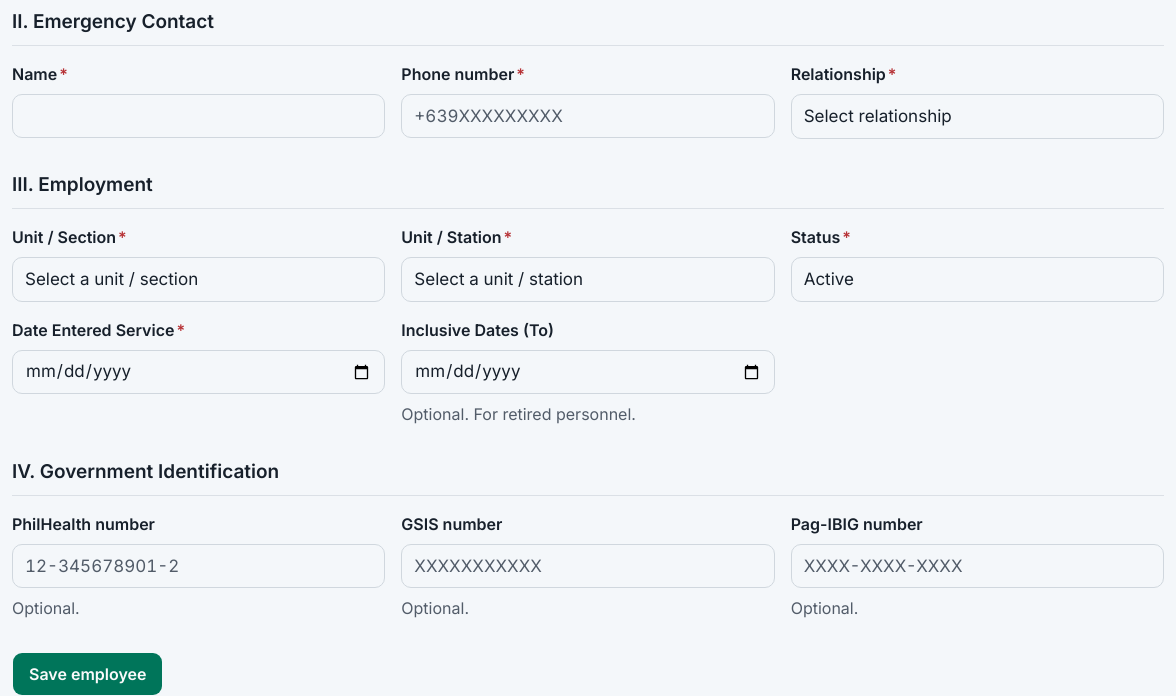
Test case: EmployeeForm › shows Badge number validation next to the field
The width and height of the screenshot is (1176, 696).
(page scrolled)
Step 1. Click the button "Save employee" → (88, 674), box [12,652,164,695]
(page scrolled)
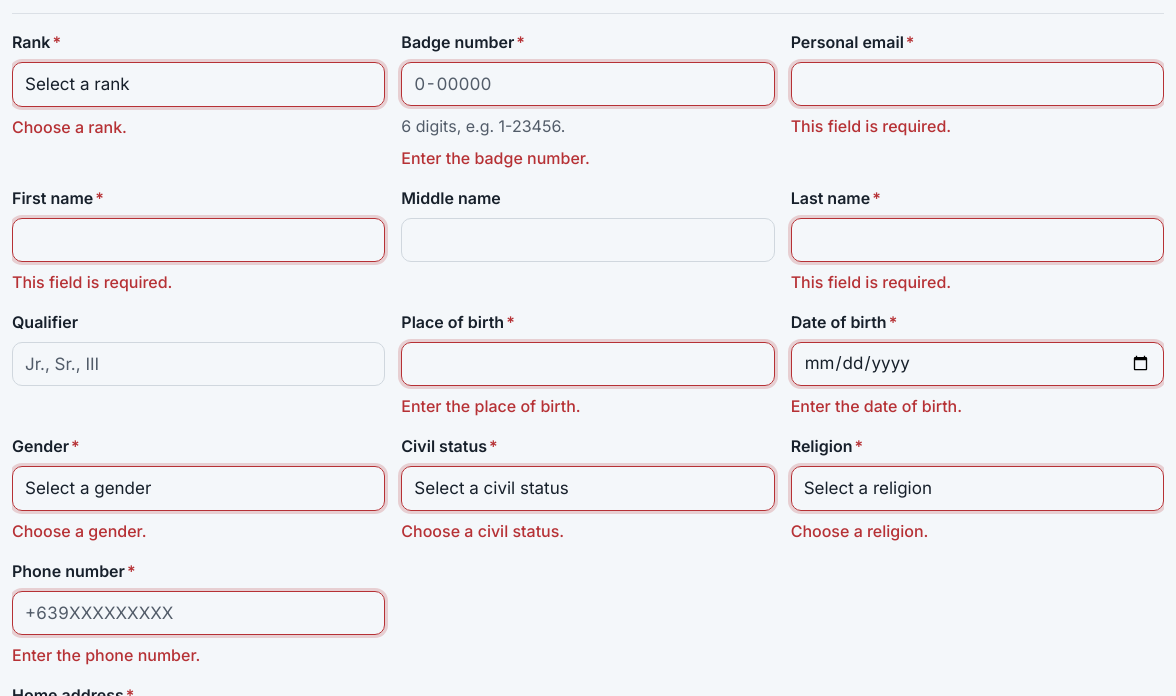
Check: the element that starts with "Badge number" shows "Enter the badge number.", box [401,148,590,168]
Step 2. Type "123" into the field labelled "Badge number*" → (588, 84), box [401,62,775,106]
(page scrolled)
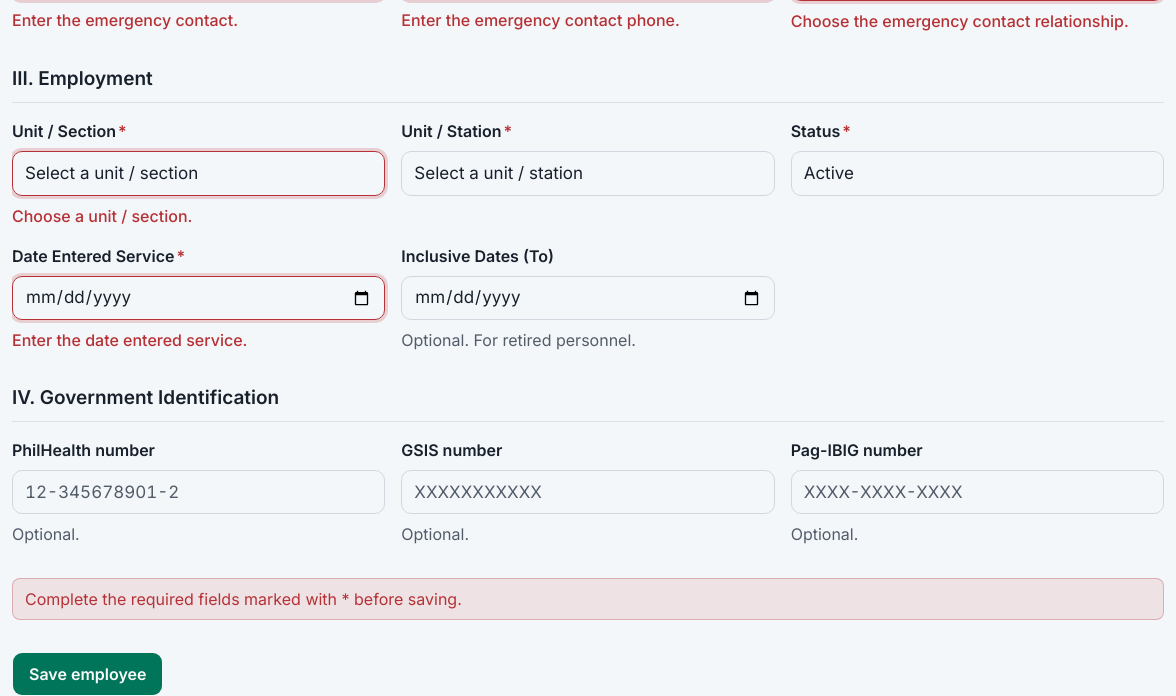
Step 3. Click the button "Save employee" → (88, 674), box [12,652,164,695]
(page scrolled)
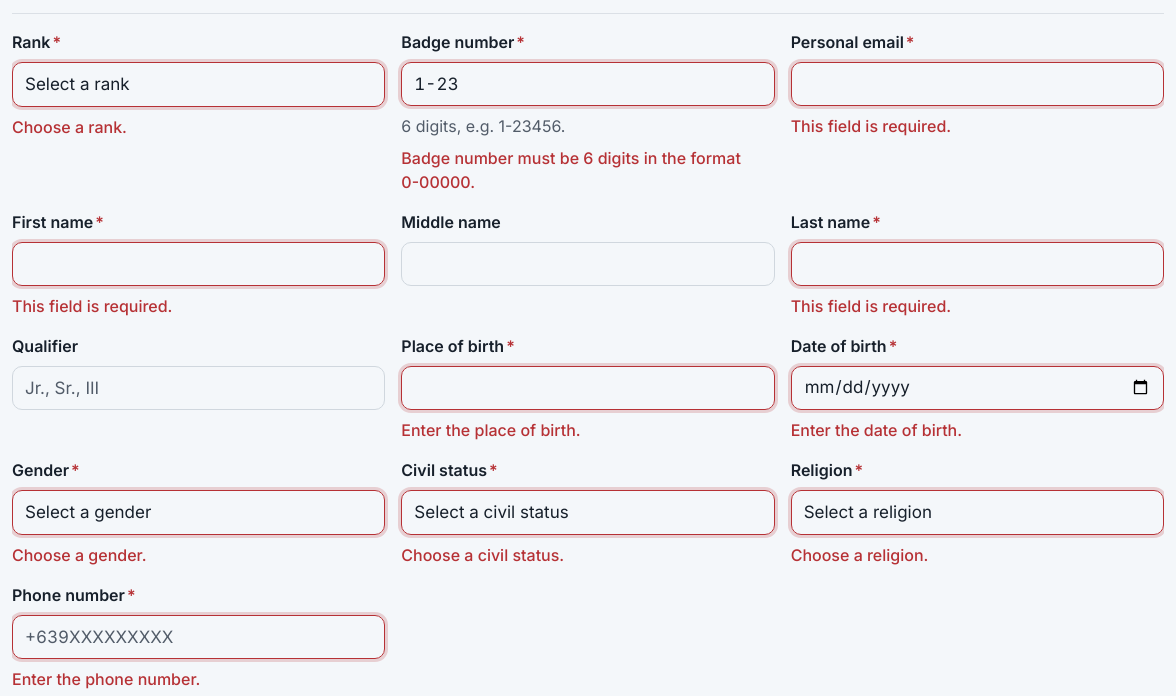
Check: the element that starts with "Badge number" shows "Badge number must be 6 digits in the format 0-00000.", box [401,148,741,192]
